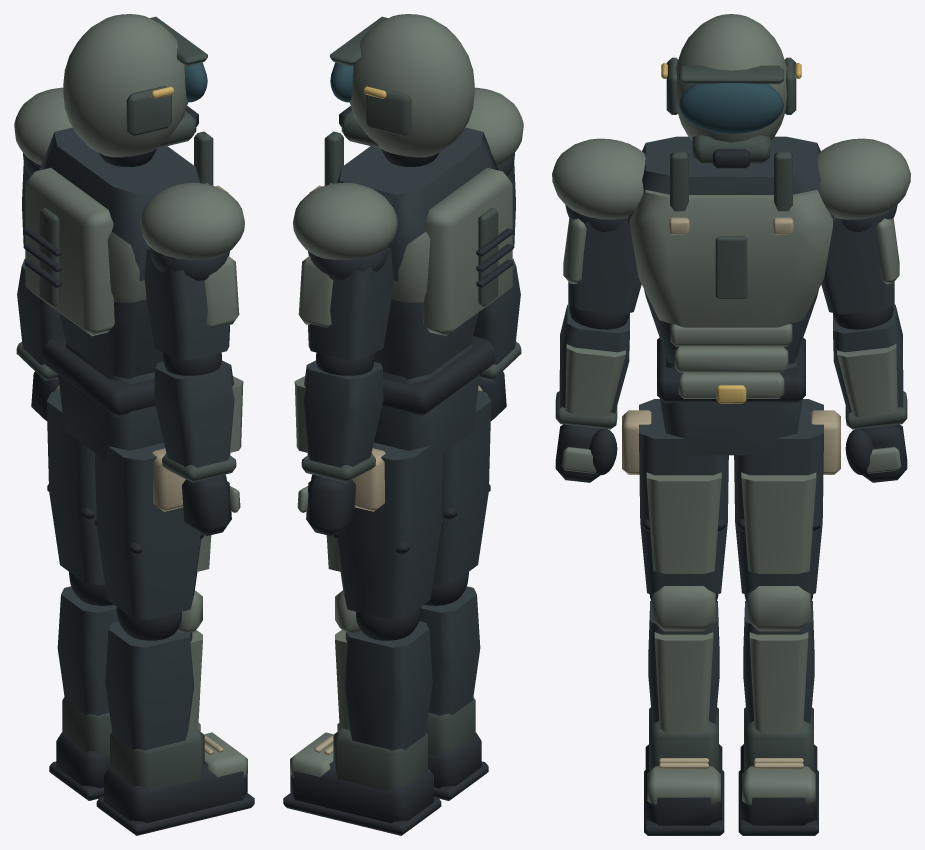
Rendered from asset.glb.
3 views of the same model, side by side, from view 1: azimuth 30°, elevation 25°; view 2: azimuth 150°, elevation 25°; view 3: azimuth 270°, elevation 25° (orthographic).
Visible parts, largest first — view 1: Mesh_ThighFabricR, Mesh_TorsoFabric, Mesh_HelmetShell, Mesh_BackPanel, Mesh_CalfR, Mesh_ThighFabricL, Mesh_ForearmR, Mesh_ShoulderArmorR, Mesh_UpperArmR, Mesh_CalfL, Mesh_PelvisUndersuit, Mesh_BootFootR (+30 smaller); view 2: Mesh_ThighFabricL, Mesh_TorsoFabric, Mesh_HelmetShell, Mesh_BackPanel, Mesh_CalfL, Mesh_ThighFabricR, Mesh_ForearmL, Mesh_ShoulderArmorL, Mesh_UpperArmL, Mesh_CalfR, Mesh_PelvisUndersuit, Mesh_BootFootL (+30 smaller); view 3: Mesh_ChestArmor, Mesh_TorsoFabric, Mesh_ThighPlateL, Mesh_ThighPlateR, Mesh_PelvisUndersuit, Mesh_ThighFabricL, Mesh_ThighFabricR, Mesh_ShoulderArmorL, Mesh_ShoulderArmorR, Mesh_HelmetShell, Mesh_ShinPlateL, Mesh_ShinPlateR (+43 smaller).
Boxes of the visible parts, x1,y1,x2,y2 form: Mesh_ThighFabricR: (94,442,201,619); Mesh_TorsoFabric: (39,127,200,379); Mesh_HelmetShell: (63,14,188,157); Mesh_BackPanel: (25,167,114,336); Mesh_CalfR: (105,621,194,750); Mesh_ThighFabricL: (46,390,104,585); Mesh_ForearmR: (154,360,234,467); Mesh_ShoulderArmorR: (140,182,244,260); Mesh_UpperArmR: (144,248,229,360); Mesh_CalfL: (57,586,118,715); Mesh_PelvisUndersuit: (58,342,163,460); Mesh_BootFootR: (104,761,247,823); Mesh_ThighFabricL: (336,442,443,619); Mesh_TorsoFabric: (337,127,498,379); Mesh_HelmetShell: (349,14,474,157); Mesh_BackPanel: (423,167,512,336); Mesh_CalfL: (343,621,432,750); Mesh_ThighFabricR: (433,390,491,585); Mesh_ForearmL: (303,360,383,467); Mesh_ShoulderArmorL: (293,182,397,260); Mesh_UpperArmL: (308,248,393,360); Mesh_CalfR: (419,586,480,715); Mesh_PelvisUndersuit: (374,342,479,460); Mesh_BootFootL: (290,761,433,823); Mesh_ChestArmor: (630,190,832,327); Mesh_TorsoFabric: (627,136,835,364); Mesh_ThighPlateL: (741,472,816,573); Mesh_ThighPlateR: (646,472,721,573); Mesh_PelvisUndersuit: (660,357,802,455); Mesh_ThighFabricL: (734,399,823,594); Mesh_ThighFabricR: (639,399,728,594); Mesh_ShoulderArmorL: (817,138,910,219); Mesh_ShoulderArmorR: (552,138,645,219); Mesh_HelmetShell: (675,14,787,142); Mesh_ShinPlateL: (749,632,808,734); Mesh_ShinPlateR: (654,632,713,734).
Bounding box in the file's own units: 0.441 × 1.9 × 0.7943.
